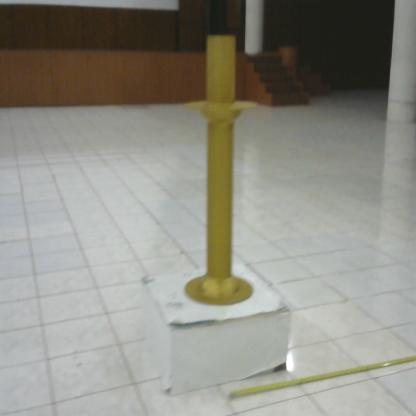pole: (176, 28, 261, 310)
